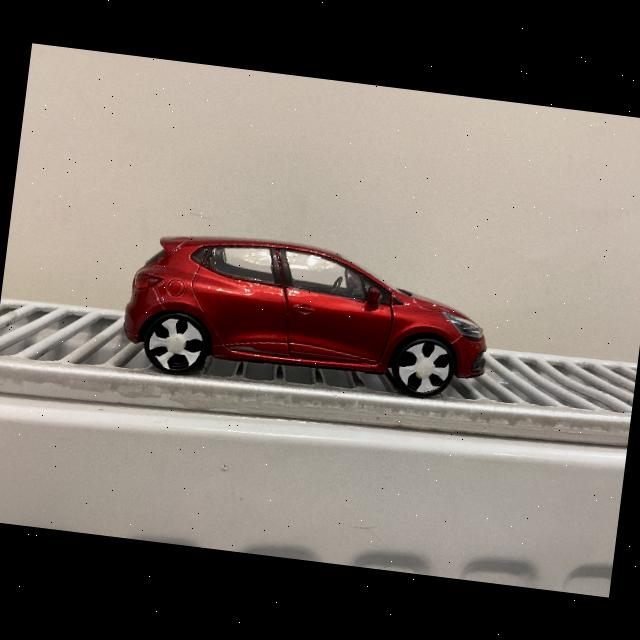Yanlis_Jant: (144, 314, 206, 373), (394, 338, 452, 396)
